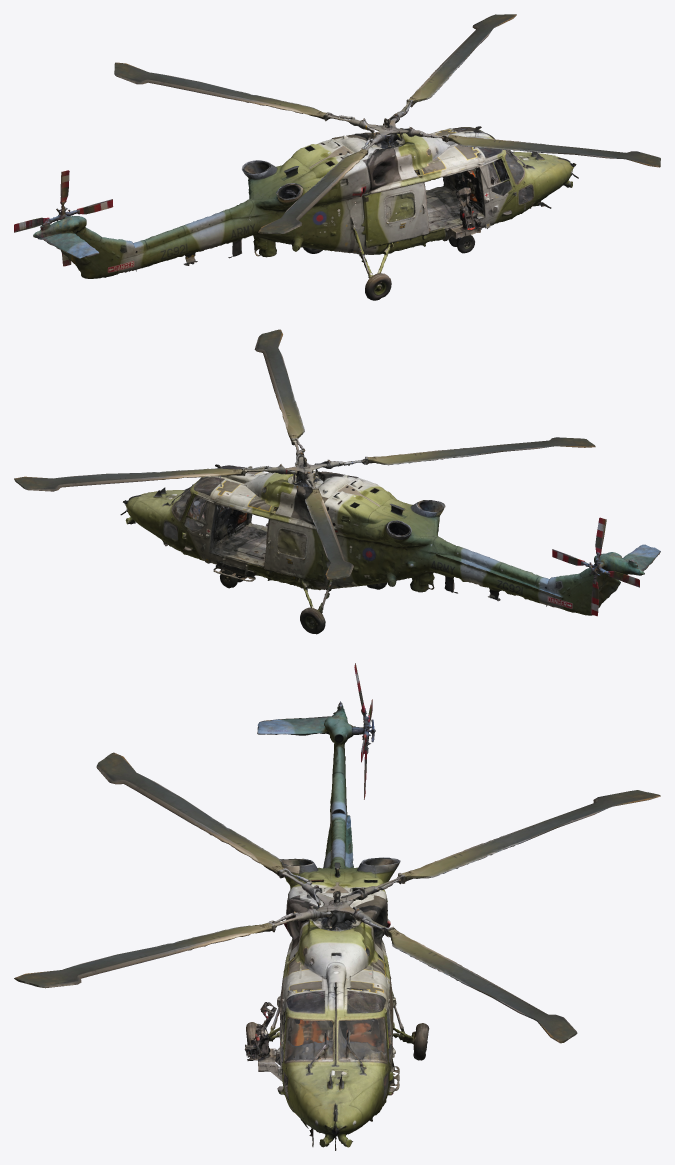
The model's file is lynx.glb.
3 views of the same model, one above another, from view 1: azimuth 30°, elevation 25°; view 2: azimuth 150°, elevation 25°; view 3: azimuth 270°, elevation 25° (orthographic). The views are drawn at different scales.
Parts seen in each view (by area): view 1: LynxHelicopter; view 2: LynxHelicopter; view 3: LynxHelicopter.
Boxes of the visible parts, x1,y1,x2,y2 form: LynxHelicopter: (14,14,660,300); LynxHelicopter: (14,329,660,634); LynxHelicopter: (14,663,660,1150).
Size of the model in its own units: 0.4049 by 0.1134 by 0.3025.
2 materials, 1 textured.
